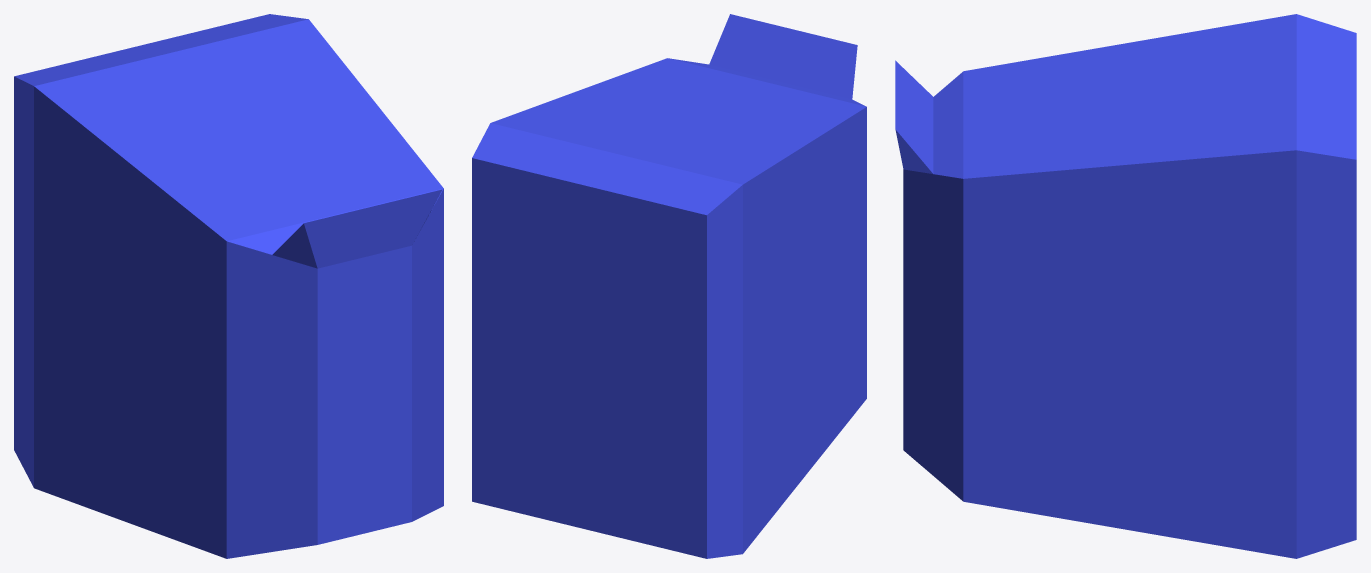
The model's file is HeavyCreamBag.obj.
3 renders of one model, left to right at view 1: azimuth 30°, elevation 25°; view 2: azimuth 150°, elevation 25°; view 3: azimuth 270°, elevation 25°, orthographic. The views are drawn at different scales.
Parts seen in each view (by area): view 1: bag.000_bag.000; view 2: bag.000_bag.000; view 3: bag.000_bag.000.
Boxes of the visible parts, bbox=[...] form: bag.000_bag.000: bbox=[14, 14, 443, 558]; bag.000_bag.000: bbox=[472, 14, 866, 558]; bag.000_bag.000: bbox=[895, 14, 1356, 558].
Size of the model in its own units: 0.1101 by 0.1539 by 0.1574.
